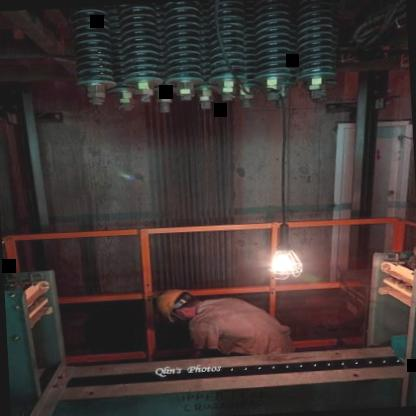helmet: (159, 286, 202, 318)
